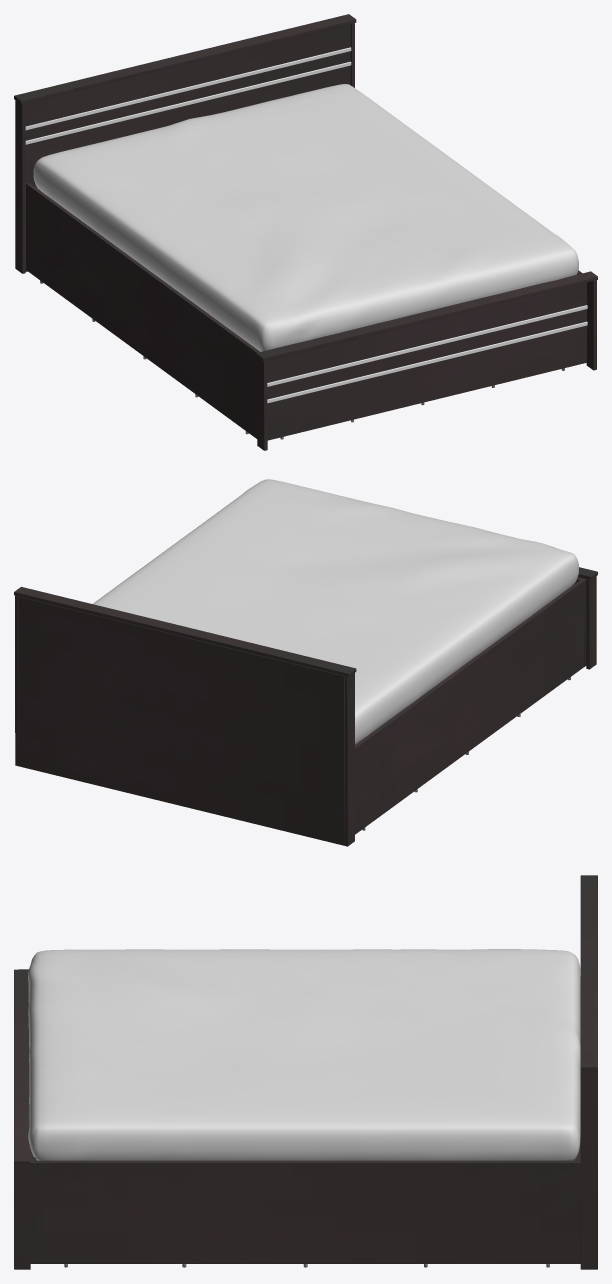
3 renders of one model, top to bottom at view 1: azimuth 30°, elevation 25°; view 2: azimuth 150°, elevation 25°; view 3: azimuth 270°, elevation 25°, orthographic. The views are drawn at different scales.
Visible parts, largest first — view 1: consolidatedNode; view 2: consolidatedNode; view 3: consolidatedNode.
Part boxes in pixels (bbox=[...]): consolidatedNode: bbox=[14, 14, 597, 450]; consolidatedNode: bbox=[14, 479, 597, 846]; consolidatedNode: bbox=[14, 875, 597, 1269].
Size of the model in its own units: 1.63 by 0.808 by 2.1.
Materials: 1 (1 with a texture image).
